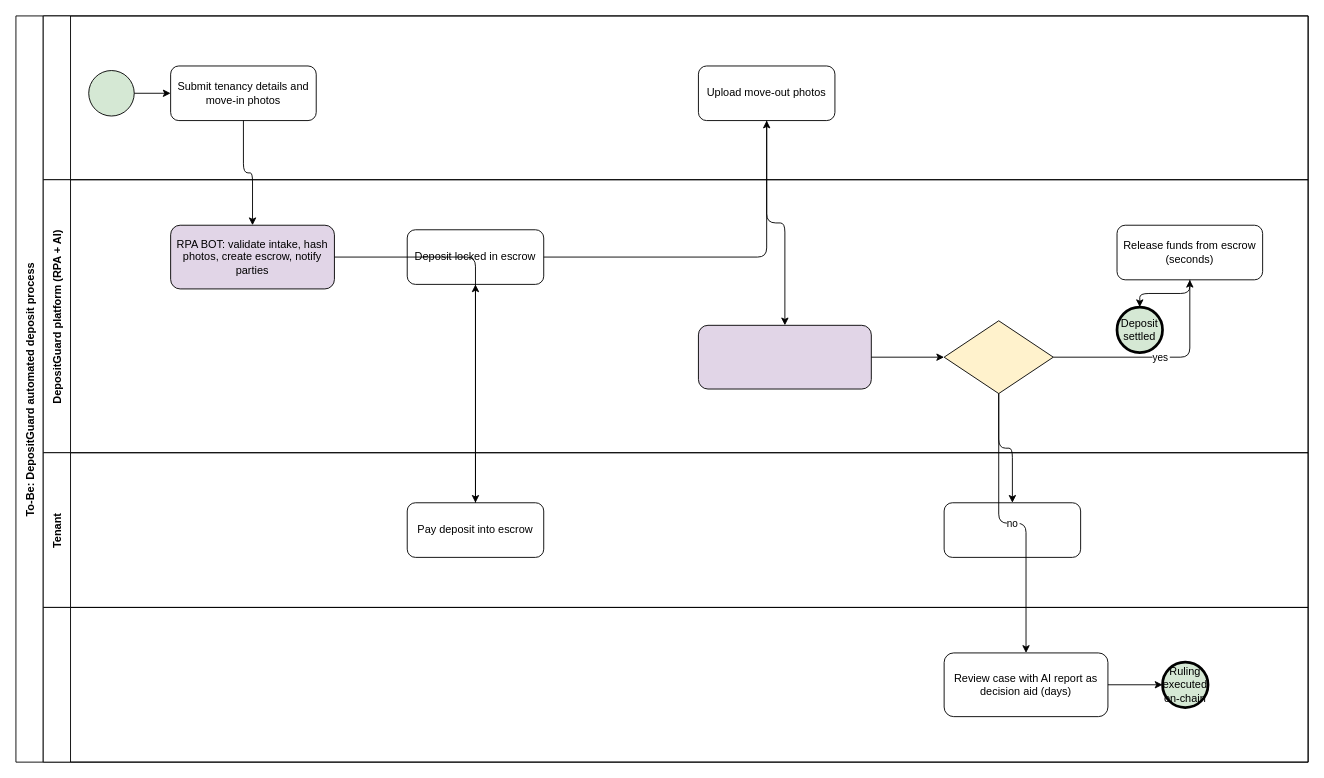
The diagram is 1324 pixels wide and 778 high, and some of its shapes have lost their labels. The box of each missing label's shape, as (x1, y1, x2, y2) in pixels:
AI AGENT: compare photos, classify wear vs damage, suggest split: (698, 324, 871, 389)
Arbitrator: (42, 607, 1308, 762)
Both parties accept split?: (943, 320, 1053, 394)
Landlord: (42, 15, 1308, 180)
New tenancy intake: (88, 70, 134, 116)
Review AI report and respond: (943, 502, 1081, 557)
